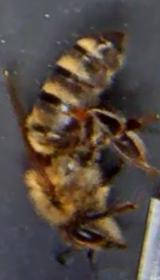varroa_mite: (59, 96, 92, 125)
